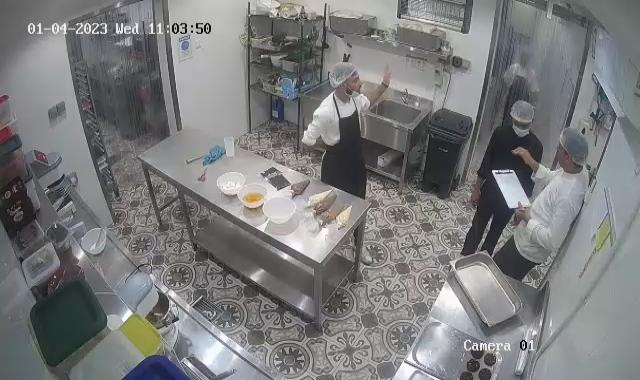hairnet: (558, 127, 588, 165), (329, 60, 359, 89), (509, 98, 536, 126)
